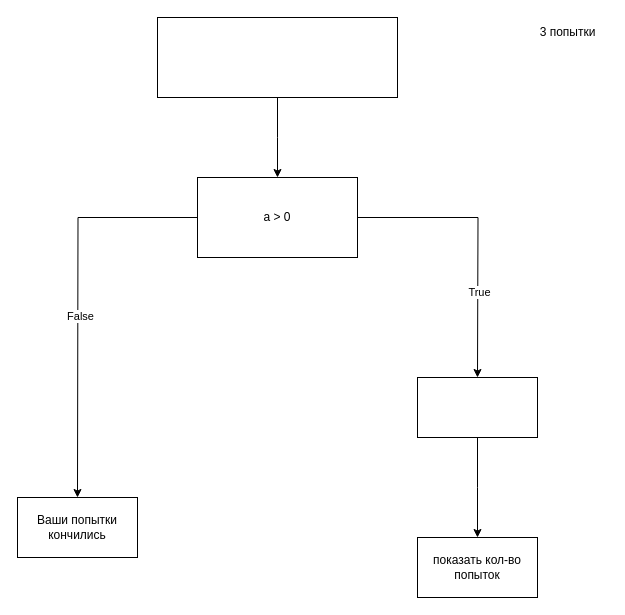
This 625x615 diagram has some shape labels left out. Here are the shapes that lost their labels. From the top down, the centre of each, then its label:
point (277, 57): кол-во попыток (a = 3)
point (477, 407): a = a - 1
